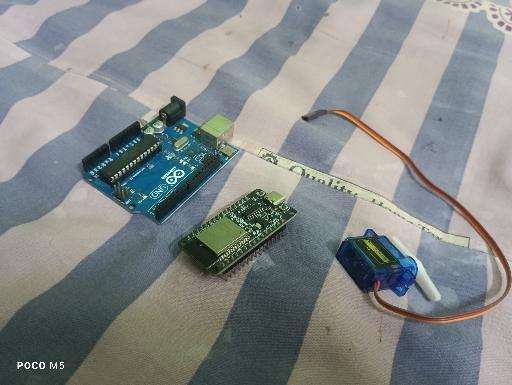Arduino: (81, 95, 241, 226)
Esp32: (177, 187, 297, 282), (335, 228, 441, 303)
